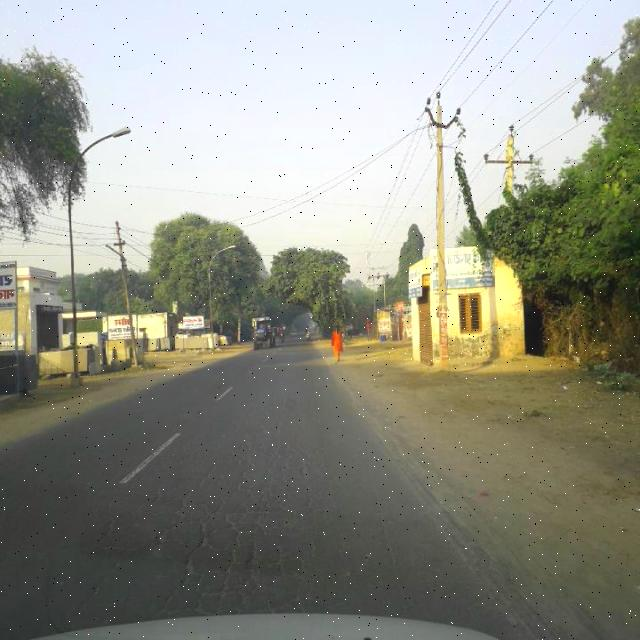D20: (71, 425, 357, 617)
